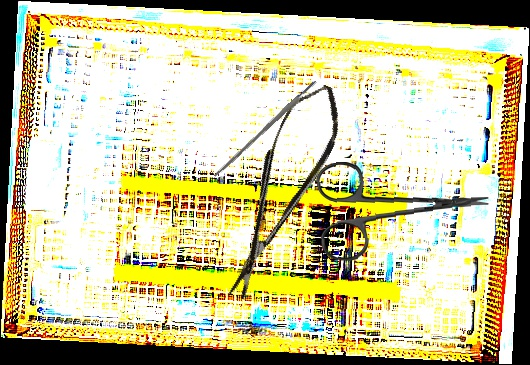Iris Scissors: (315, 154, 493, 263)
Micro Scissor: (204, 75, 357, 306)
Scalpel Handle: (212, 79, 319, 179)
